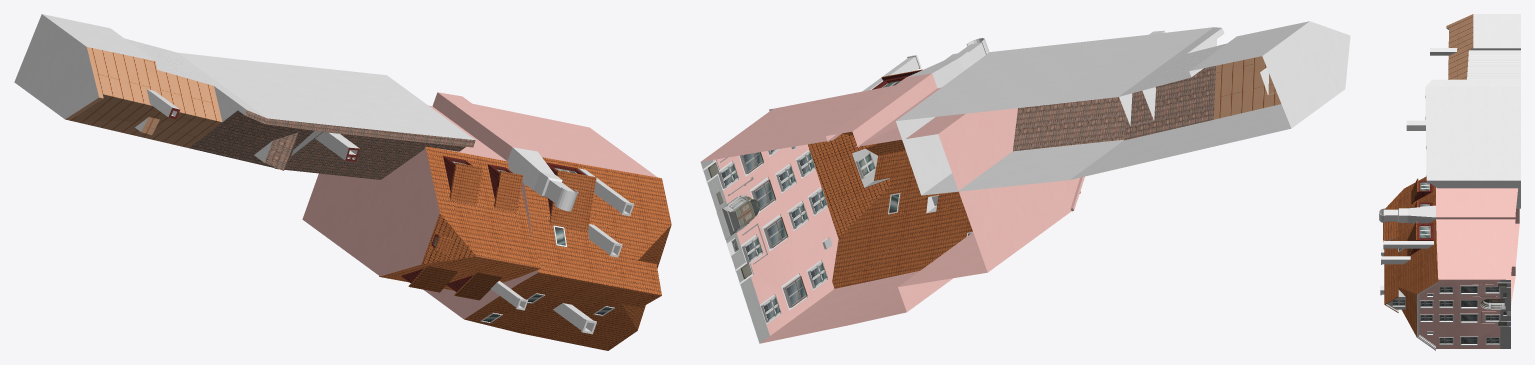
File: Pikk_51.obj
The picture shows the model from 3 angles, left to right: view 1: azimuth 30°, elevation 25°; view 2: azimuth 150°, elevation 25°; view 3: azimuth 270°, elevation 25°; orthographic projection. The views are drawn at different scales.
Parts seen in each view (by area): view 1: Pikk_51; view 2: Pikk_51; view 3: Pikk_51.
Part boxes in pixels (x1,y1,x2,y2): Pikk_51: (14, 14, 671, 350); Pikk_51: (700, 21, 1350, 343); Pikk_51: (1379, 14, 1520, 350).
Bounding box in the file's own units: 50.74 × 33.8 × 20.6.
